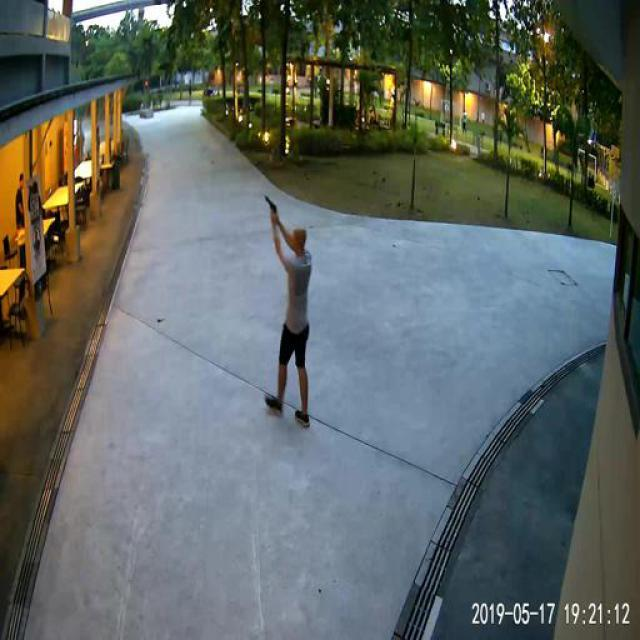Gun: (264, 194, 276, 218)
